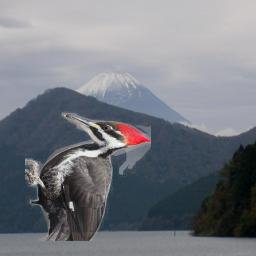Woodpecker: (25, 111, 151, 241)
